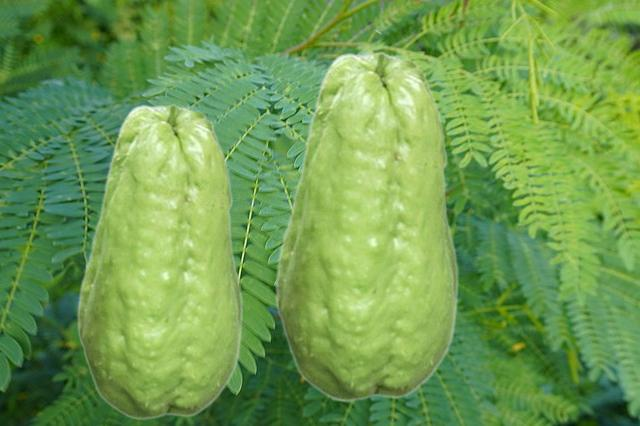sayote: (274, 51, 459, 402), (76, 103, 243, 420)
